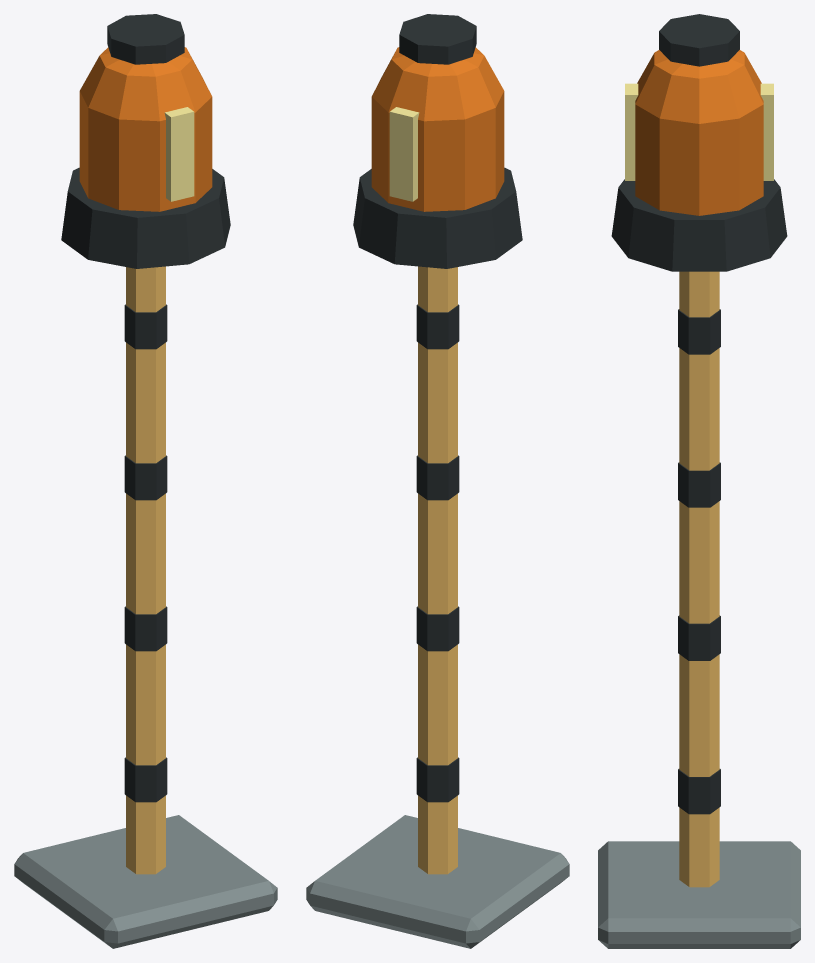
File: warnleuchte.glb
The picture shows the model from 3 angles, left to right: view 1: azimuth 30°, elevation 25°; view 2: azimuth 150°, elevation 25°; view 3: azimuth 270°, elevation 25°; orthographic projection.
Visible parts, largest first — view 1: warnleuchte-m, licht-m; view 2: warnleuchte-m, licht-m; view 3: warnleuchte-m, licht-m.
Boxes of the visible parts, bbox=[...] form: warnleuchte-m: bbox=[14, 14, 277, 948]; licht-m: bbox=[79, 47, 212, 211]; warnleuchte-m: bbox=[306, 14, 569, 948]; licht-m: bbox=[371, 47, 504, 211]; warnleuchte-m: bbox=[598, 14, 800, 948]; licht-m: bbox=[625, 50, 773, 215].
Size of the model in its own units: 0.3 by 1.43 by 0.3.
